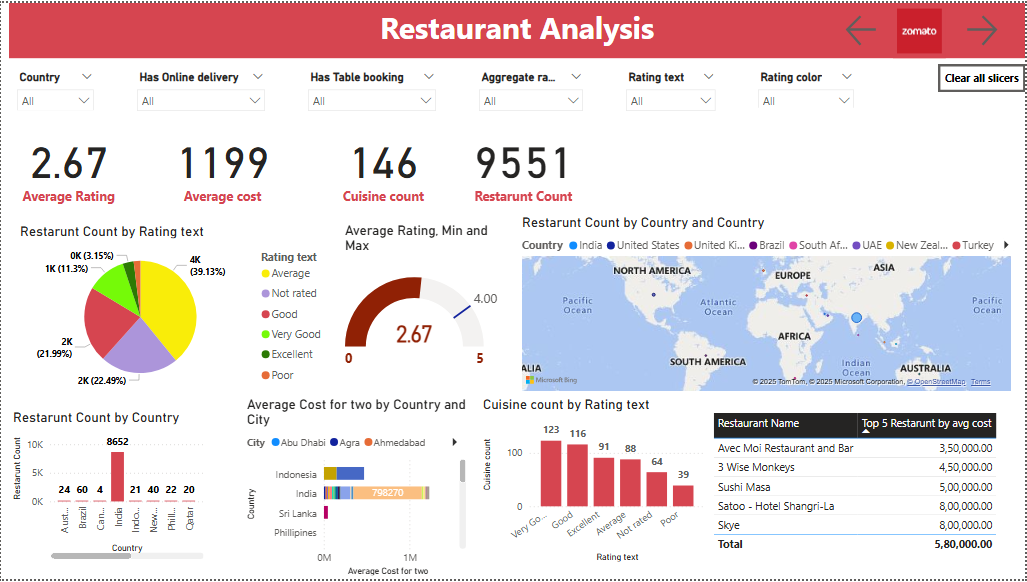

Layout of this report page (visuals, bound fields, positions):
{"tool":"powerbi","page":{"name":"Restaurant Analysis","canvas":[1280,720],"ordinal":1},"visuals":[{"type":"textbox","box":[10.3,0,1270.3,69.5],"z":0},{"type":"image","box":[1115.5,0,65.5,69.4],"z":1000},{"type":"slicer","fields":{"Values":["Country Master.Country"]},"box":[10.3,79.7,116.2,53.5],"z":2000},{"type":"slicer","fields":{"Values":["KPIs.Has Online delivery"]},"box":[160,79.7,180,54.7],"z":3000},{"type":"slicer","fields":{"Values":["KPIs.Aggregate rating"]},"box":[587,79.7,150.4,62.7],"z":4000},{"type":"slicer","fields":{"Values":["KPIs.Has Table booking"]},"box":[373.5,79.7,180,57],"z":5000},{"type":"actionButton","box":[1171.1,76.3,109.4,35.3],"z":6000},{"type":"slicer","fields":{"Values":["KPIs.Rating text"]},"box":[770.9,79.7,132.2,58.1],"z":7000},{"type":"slicer","fields":{"Values":["KPIs.Rating color"]},"box":[936.6,79.7,140.1,51.3],"z":8000},{"type":"card","fields":{"Values":["1_Zomato Measures.Average Rating"]},"box":[10.3,142.7,149.1,120.8],"z":9000},{"type":"columnChart","fields":{"Y":["1_Zomato Measures.Restarunt Count"],"Category":["Zomato.City","Country Master.Country"]},"box":[10.3,508.1,248.4,192.5],"z":10000},{"type":"columnChart","fields":{"Y":["1_Zomato Measures.cuisine count"],"Category":["KPIs.Rating text"]},"box":[598.1,491,287.1,211.9],"z":11000},{"type":"pieChart","fields":{"Y":["1_Zomato Measures.Restarunt Count"],"Category":["KPIs.Rating text"]},"box":[19.3,275,397.1,215.9],"z":12000},{"type":"map","fields":{"Category":["Country Master.Country"],"Series":["Country Master.Country"],"Size":["1_Zomato Measures.Restarunt Count"]},"box":[645.9,264.3,620.9,226.7],"z":13000},{"type":"gauge","fields":{"Y":["1_Zomato Measures.Average Rating"],"MinValue":["1_Zomato Measures.Min"],"MaxValue":["1_Zomato Measures.Max"]},"box":[424.9,273.4,206.2,217.6],"z":14000},{"type":"card","fields":{"Values":["1_Zomato Measures.Average cost"]},"box":[185.6,142.4,183.8,122.1],"z":15000},{"type":"card","fields":{"Values":["1_Zomato Measures.cuisine count"]},"box":[411.4,142.4,133.3,121.9],"z":16000},{"type":"card","fields":{"Values":["1_Zomato Measures.Restarunt Count"]},"box":[586.7,142.4,133.3,121.9],"z":17000},{"type":"barChart","fields":{"Category":["Zomato.Country"],"Series":["Zomato.City"],"Y":["Sum(KPIs.Average Cost for two)"]},"box":[303,491,283.7,229],"z":18000},{"type":"actionButton","box":[1201.6,5.1,48.8,57.8],"z":19000},{"type":"actionButton","box":[1051.2,10.3,50.1,48.8],"z":20000},{"type":"tableEx","fields":{"Values":["Zomato.Restaurant Name","1_Zomato Measures.Top 5 Restarunt by avg cost"]},"box":[885.2,508.1,395.3,192.5],"z":21000}]}

Visuals, with their boxes in screenshot pixels (x1, y1, x2, y2), scaled from the page's 1280x720 canvas onto the 1027x582 screenshot:
textbox: (x1=8, y1=0, x2=1026, y2=56)
image: (x1=895, y1=0, x2=948, y2=56)
slicer - Country Master.Country: (x1=8, y1=64, x2=101, y2=108)
slicer - KPIs.Has Online delivery: (x1=128, y1=64, x2=273, y2=109)
slicer - KPIs.Aggregate rating: (x1=471, y1=64, x2=592, y2=115)
slicer - KPIs.Has Table booking: (x1=300, y1=64, x2=444, y2=110)
actionButton: (x1=940, y1=62, x2=1026, y2=90)
slicer - KPIs.Rating text: (x1=619, y1=64, x2=725, y2=111)
slicer - KPIs.Rating color: (x1=751, y1=64, x2=864, y2=106)
card - 1_Zomato Measures.Average Rating: (x1=8, y1=115, x2=128, y2=213)
columnChart - 1_Zomato Measures.Restarunt Count x Zomato.City: (x1=8, y1=411, x2=208, y2=566)
columnChart - 1_Zomato Measures.cuisine count x KPIs.Rating text: (x1=480, y1=397, x2=710, y2=568)
pieChart - 1_Zomato Measures.Restarunt Count x KPIs.Rating text: (x1=15, y1=222, x2=334, y2=397)
map - Country Master.Country x Country Master.Country: (x1=518, y1=214, x2=1016, y2=397)
gauge - 1_Zomato Measures.Average Rating x 1_Zomato Measures.Min: (x1=341, y1=221, x2=506, y2=397)
card - 1_Zomato Measures.Average cost: (x1=149, y1=115, x2=296, y2=214)
card - 1_Zomato Measures.cuisine count: (x1=330, y1=115, x2=437, y2=214)
card - 1_Zomato Measures.Restarunt Count: (x1=471, y1=115, x2=578, y2=214)
barChart - Zomato.Country x Zomato.City: (x1=243, y1=397, x2=471, y2=581)
actionButton: (x1=964, y1=4, x2=1003, y2=51)
actionButton: (x1=843, y1=8, x2=884, y2=48)
tableEx - Zomato.Restaurant Name x 1_Zomato Measures.Top 5 Restarunt by avg cost: (x1=710, y1=411, x2=1026, y2=566)
